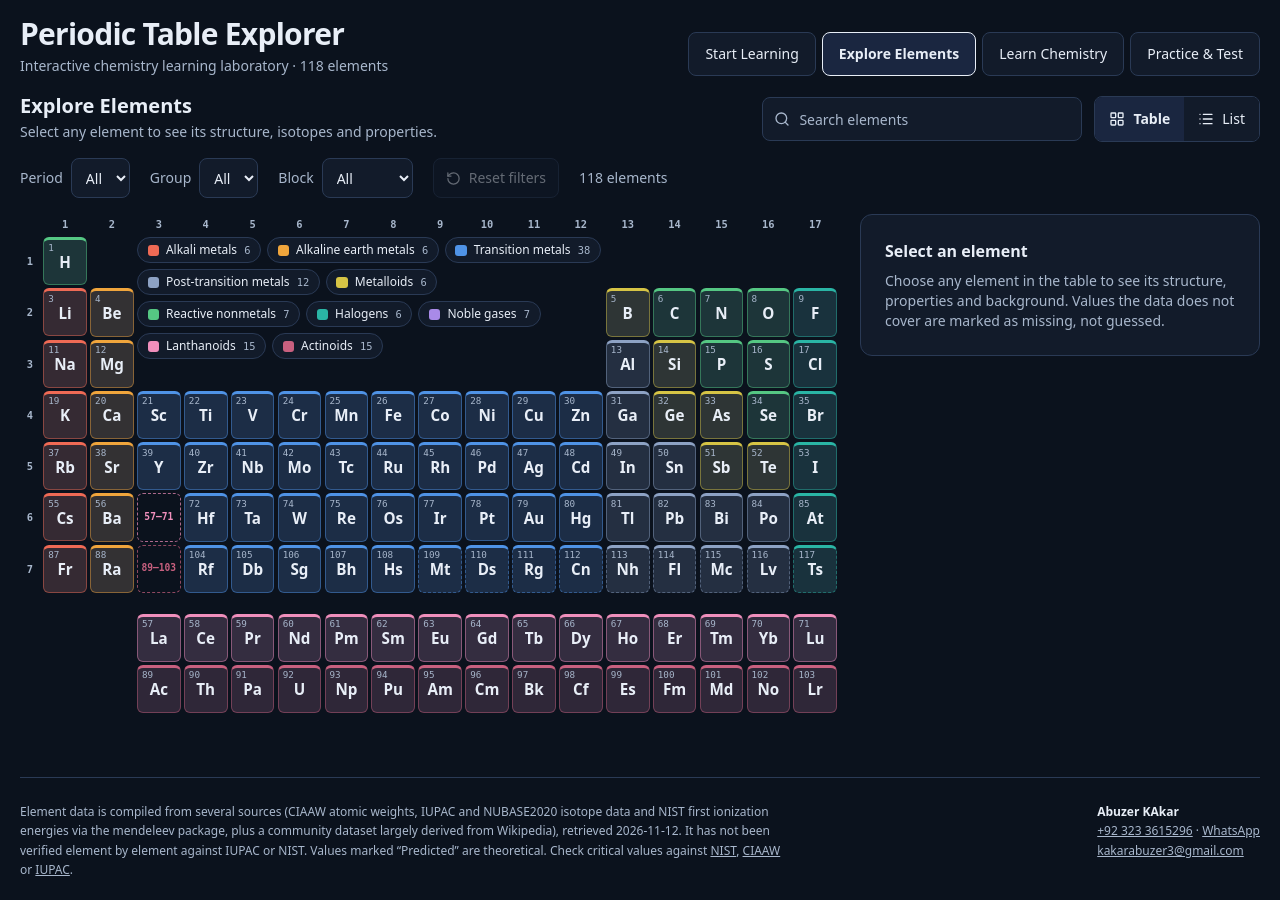
Test: search › does not open an element that the other filters have hidden
Click the button "Halogens 6" at [359, 314], box [306,301,412,327]
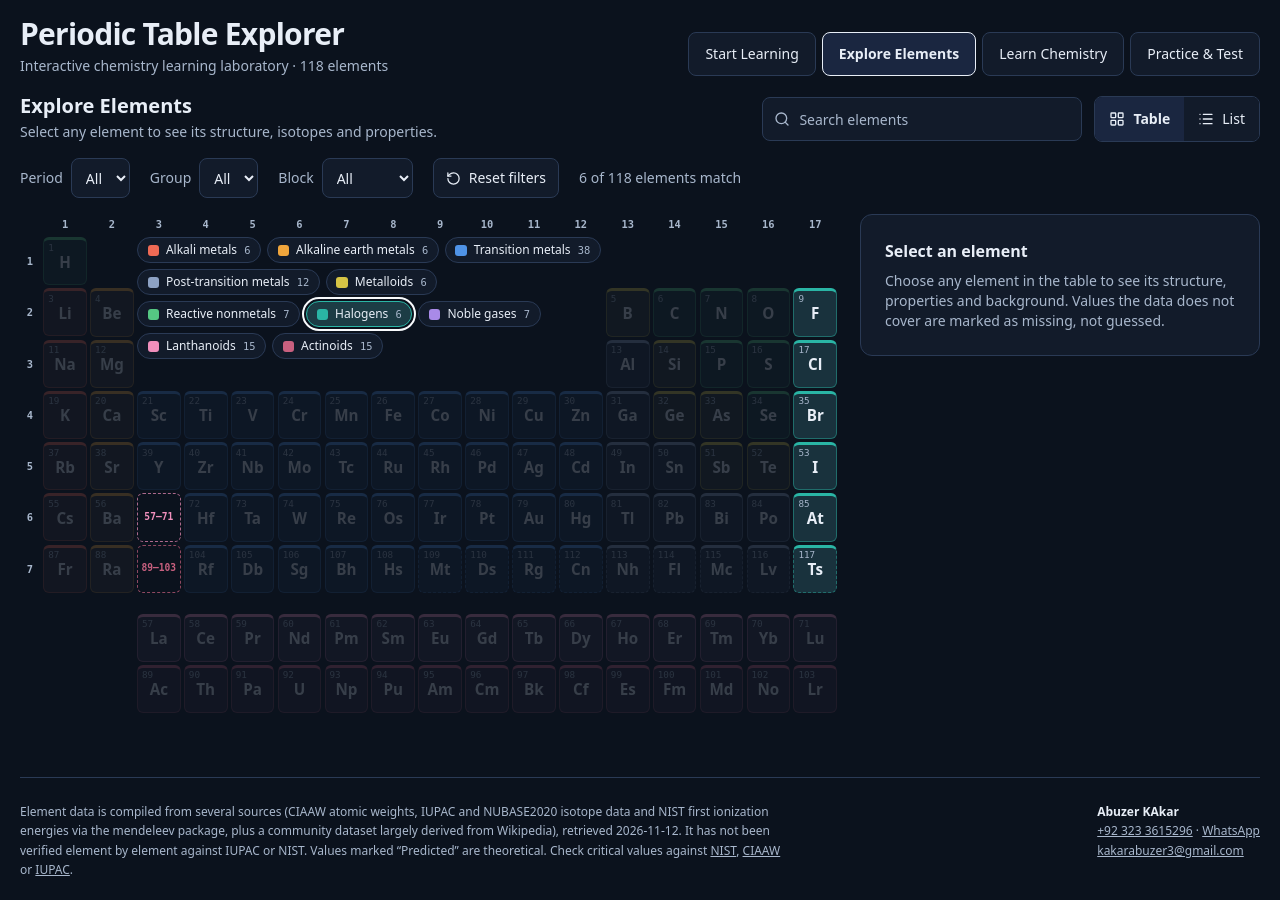
Type "oganesson" into the search field at [922, 119], box [762,97,1082,141]
Then press Enter
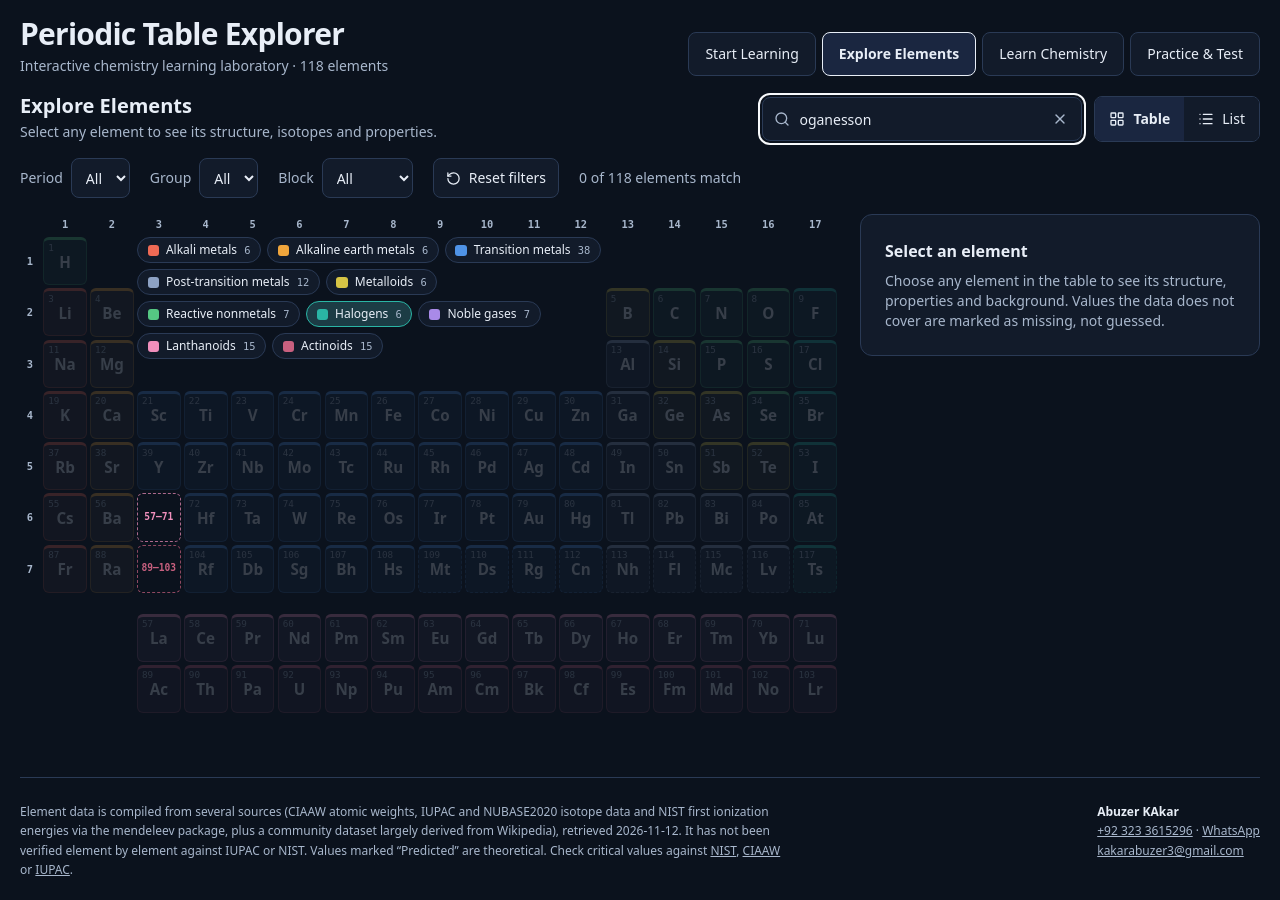
Expected: the heading "Select an element" is shown, [885,240,1028,262]
Expected: the message reads "0 of 118 elements match", [579,168,741,187]
